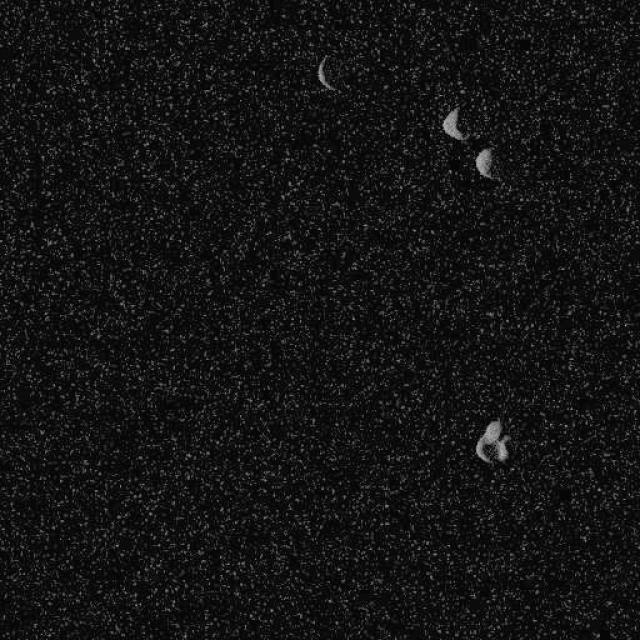D2: (474, 419, 510, 465), (440, 105, 469, 141), (315, 54, 336, 92), (474, 146, 494, 179)
